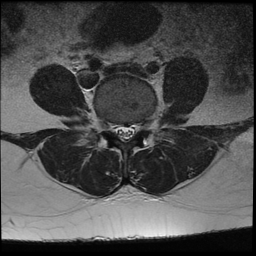CCS_normal: (121, 117, 129, 148)
LFS_normal: (137, 114, 144, 139)
LLS_normal: (129, 117, 136, 144)
RFS_normal: (106, 114, 113, 139)
RLS_normal: (114, 117, 121, 143)
